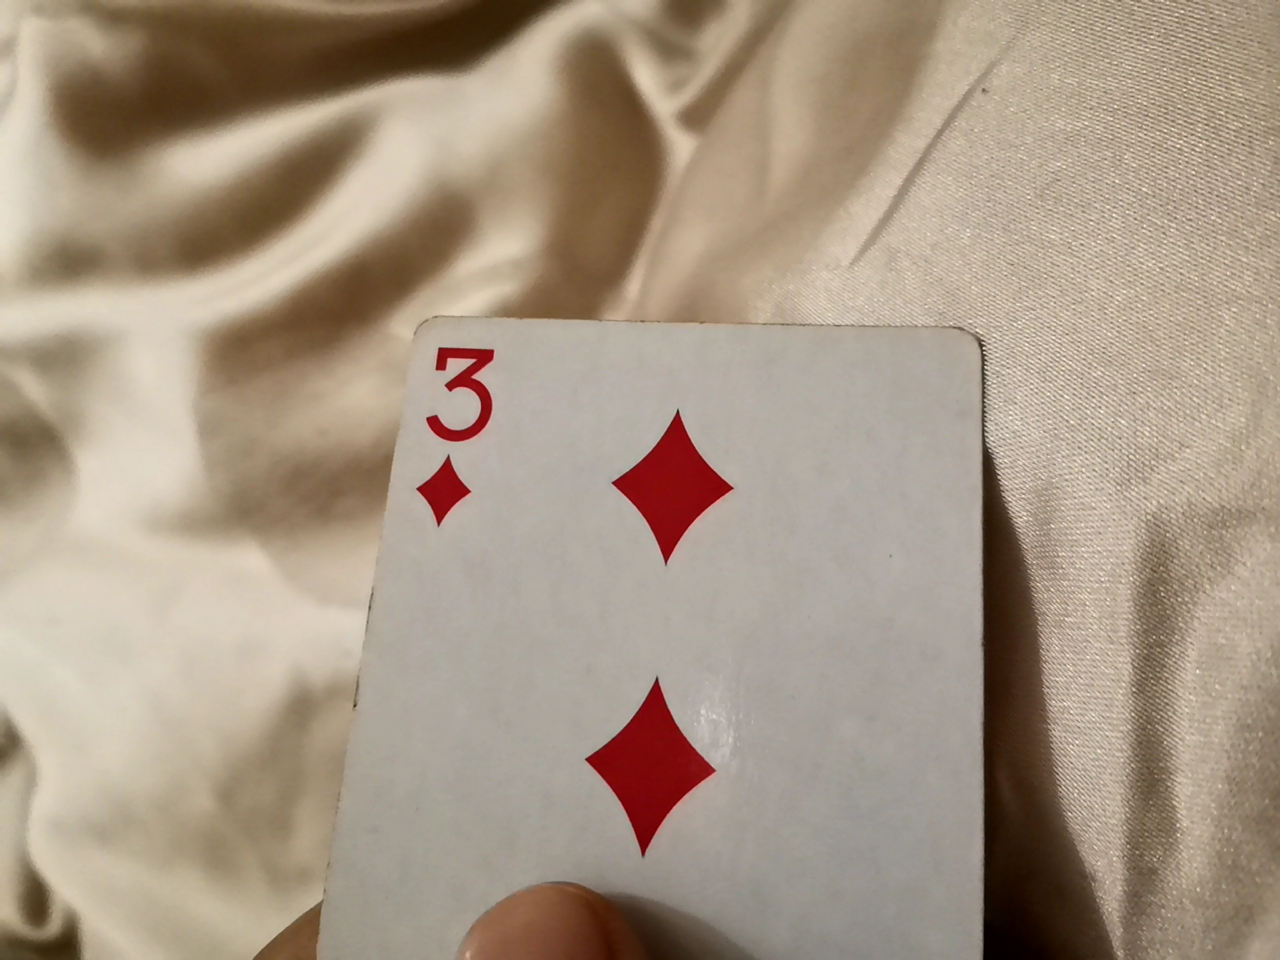fk 3: (286, 292, 985, 960)
